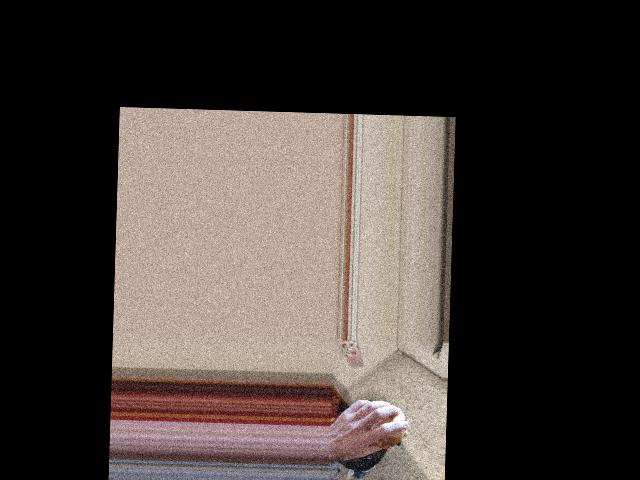onion: (367, 406, 406, 447)
